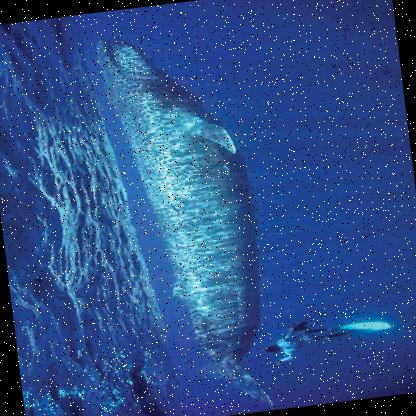blue_whale: (78, 18, 284, 413)
